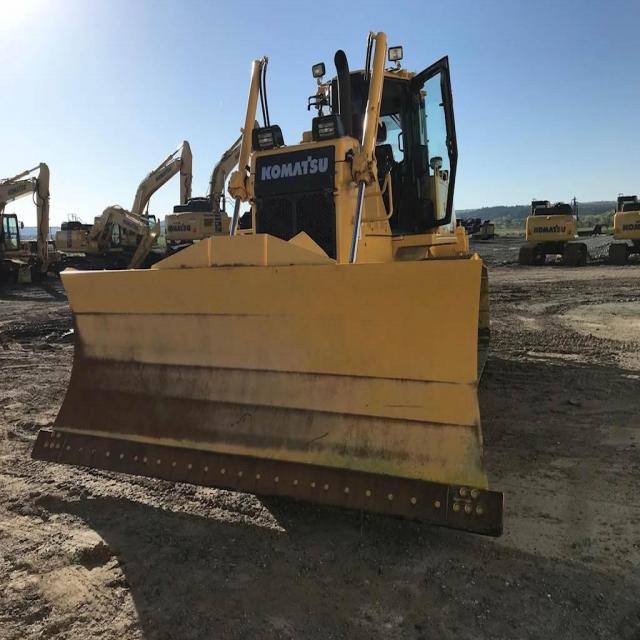Bulldozer: (57, 25, 572, 577)
